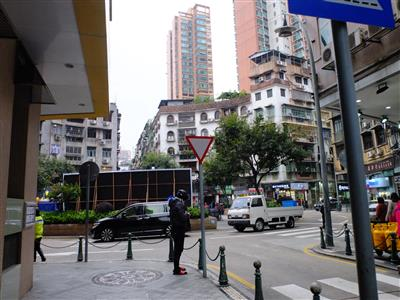yield: (183, 132, 215, 164)
